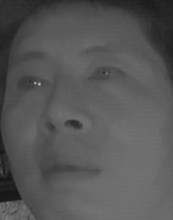eye: (84, 61, 126, 88), (13, 71, 51, 94)
mouth: (37, 149, 104, 186)
